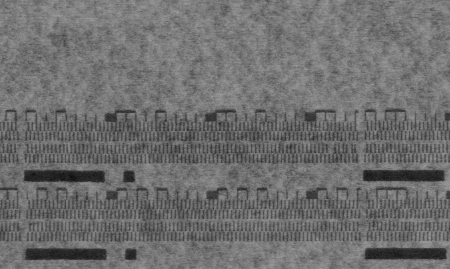Broken hole: (326, 141, 337, 154)
